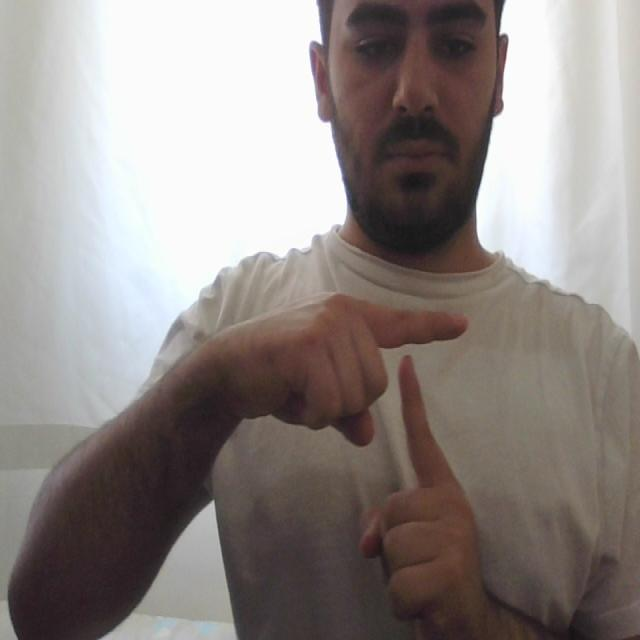Tesekkurler: (359, 287, 473, 507)
